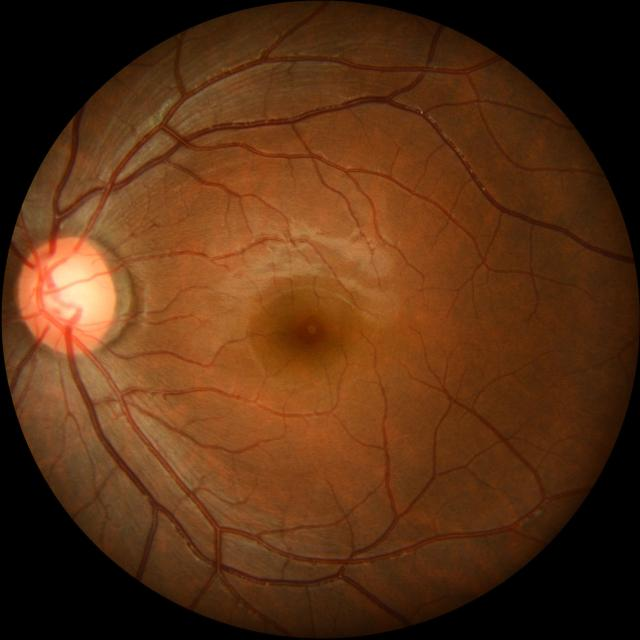OC: (33, 254, 101, 329)
OD: (18, 236, 115, 352)
